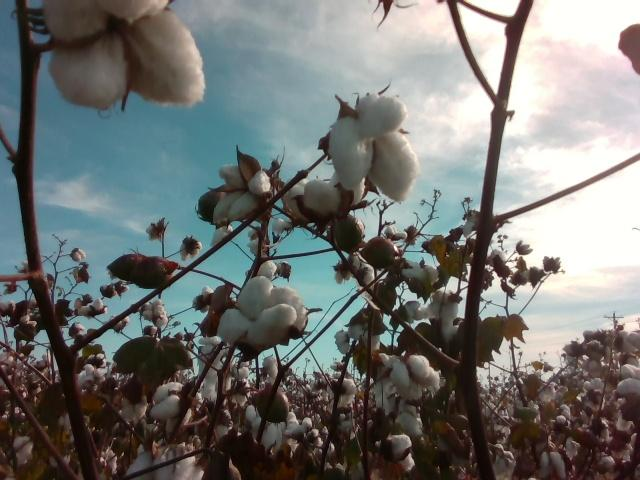cotton_ready: (43, 0, 206, 109), (328, 92, 419, 205), (220, 277, 307, 348), (210, 163, 272, 225), (123, 446, 206, 480), (390, 354, 441, 399), (304, 177, 365, 213), (152, 383, 192, 431), (198, 335, 224, 403), (373, 353, 398, 416), (282, 175, 311, 222), (427, 288, 460, 329), (348, 319, 385, 353), (381, 434, 415, 471), (395, 398, 425, 439), (401, 261, 440, 287), (253, 419, 281, 453), (328, 378, 357, 406), (334, 253, 360, 284), (402, 299, 429, 325), (214, 407, 234, 440), (287, 415, 313, 437), (210, 226, 233, 248), (360, 261, 375, 294), (235, 378, 251, 407), (180, 240, 202, 261), (247, 227, 262, 255), (262, 355, 277, 382), (334, 330, 349, 355), (232, 361, 251, 378), (258, 260, 277, 276), (245, 404, 258, 427)
